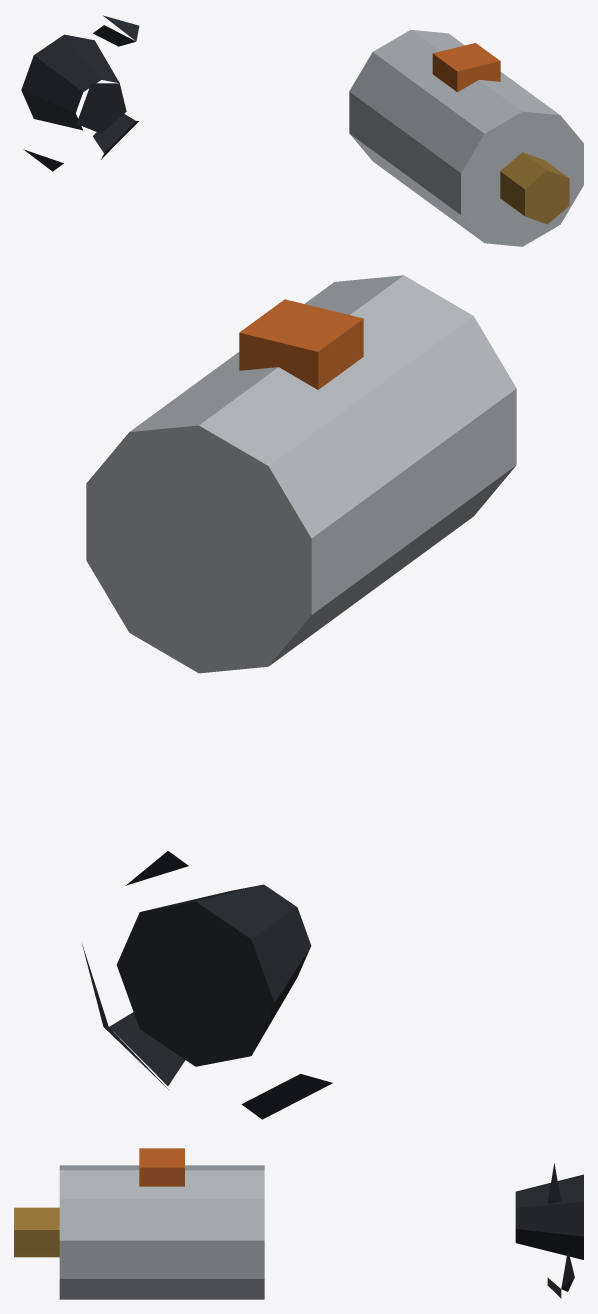
Rendered from underwater-respirator.lod.glb.
3 views of the same model, one above another, from view 1: azimuth 30°, elevation 25°; view 2: azimuth 150°, elevation 25°; view 3: azimuth 270°, elevation 25° (orthographic). The views are drawn at different scales.
Visible parts, largest first — view 1: m; view 2: m; view 3: m.
Boxes of the visible parts, box(x1,y1,x2,y2) form: m: box(21, 15, 583, 246); m: box(82, 275, 516, 1119); m: box(14, 1148, 583, 1299).
Size of the model in its own units: 0.1101 by 0.0802 by 0.2.
